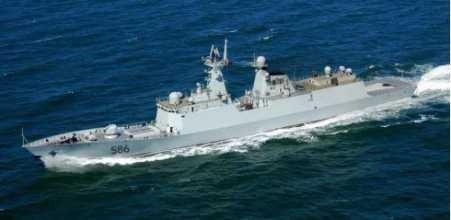warship: (21, 41, 422, 167)
